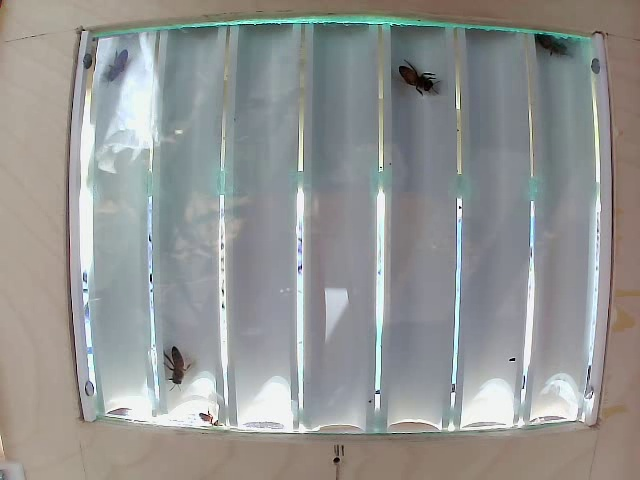bee: (396, 59, 440, 105), (164, 340, 198, 394), (535, 30, 569, 60)
